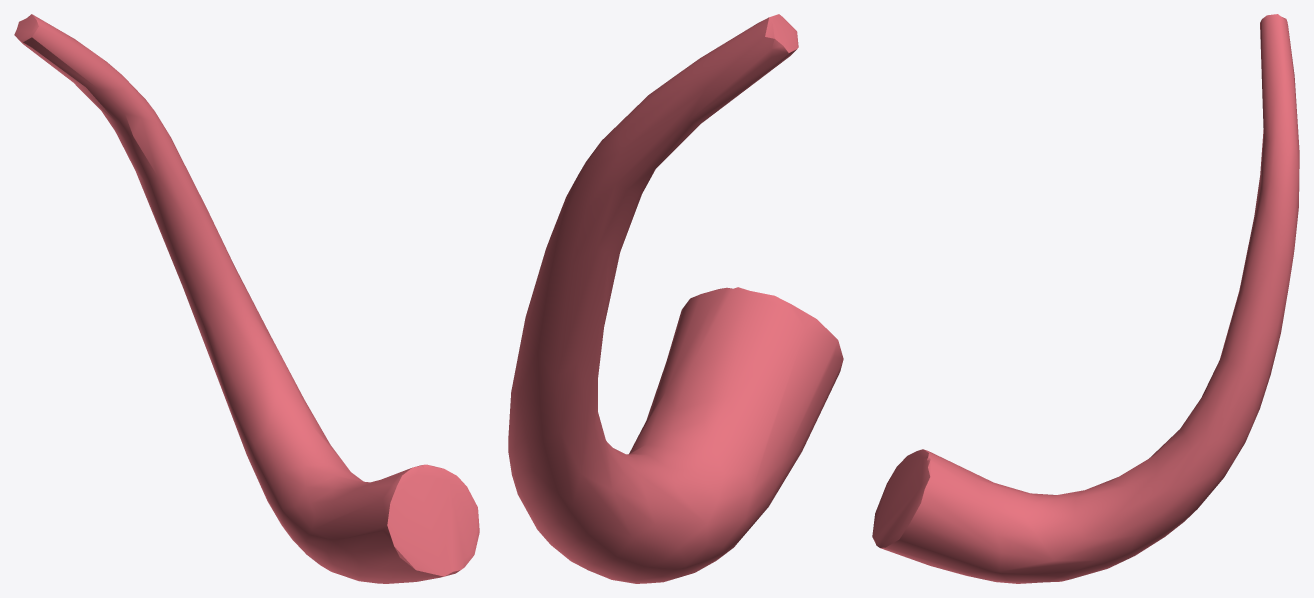
File: fma68135_fj5958.glb
The picture shows the model from 3 angles, left to right: view 1: azimuth 30°, elevation 25°; view 2: azimuth 150°, elevation 25°; view 3: azimuth 270°, elevation 25°; orthographic projection. The views are drawn at different scales.
Parts seen in each view (by area): view 1: FMA68135_FJ5958; view 2: FMA68135_FJ5958; view 3: FMA68135_FJ5958.
Part boxes in pixels (box(x1,y1,x2,y2)): FMA68135_FJ5958: box(14, 14, 479, 583); FMA68135_FJ5958: box(508, 14, 843, 583); FMA68135_FJ5958: box(872, 14, 1299, 583).
Bounding box in the file's own units: 0.0202 × 0.0363 × 0.0294.
